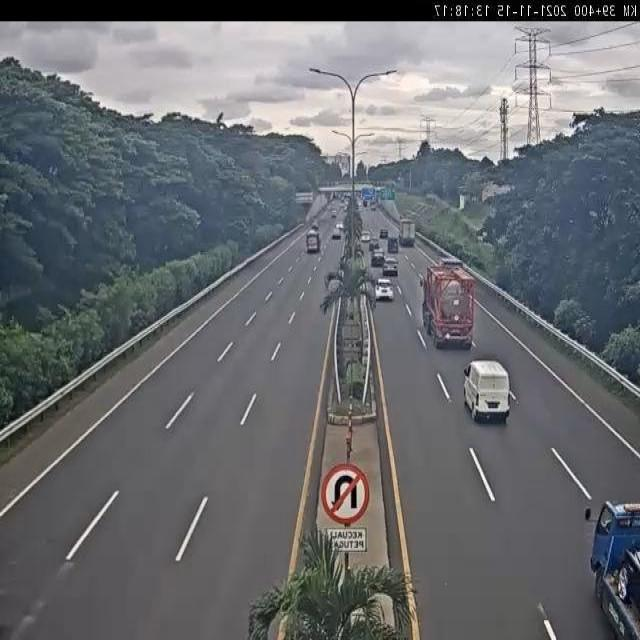Car: (374, 276, 395, 302), (383, 258, 399, 277), (370, 249, 385, 264)
Truck: (581, 499, 640, 640), (418, 264, 475, 350), (398, 218, 416, 246), (305, 232, 320, 254)
Van: (462, 360, 510, 426)
